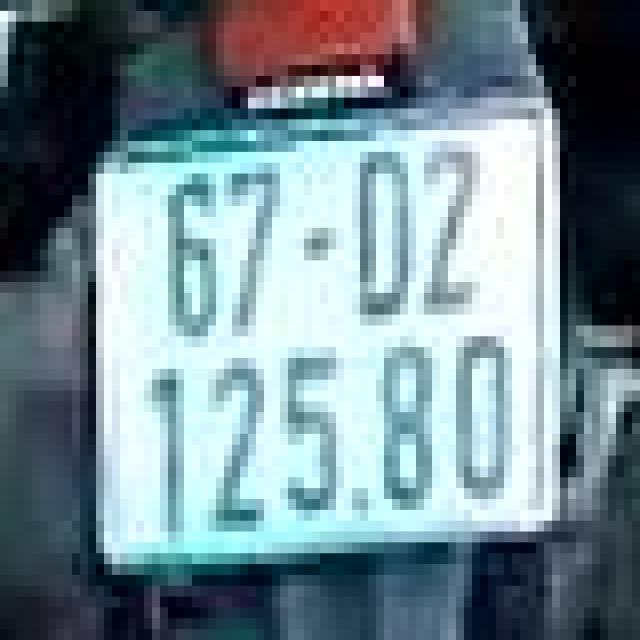0: (448, 320, 520, 515)
1: (144, 347, 192, 542)
2: (416, 136, 488, 320), (204, 358, 268, 542)
5: (276, 336, 348, 521)
6: (160, 163, 224, 358)
7: (220, 146, 284, 352)
8: (376, 331, 440, 515)
D: (352, 135, 416, 331)
